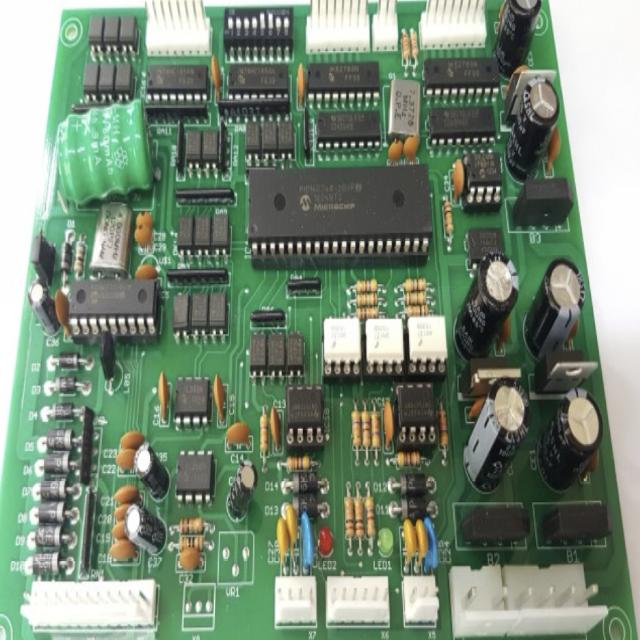Electrolytic capacitor: (461, 380, 531, 499), (454, 254, 522, 362), (524, 245, 586, 358), (540, 383, 600, 498), (509, 80, 558, 180), (497, 0, 542, 67), (135, 440, 170, 508), (126, 504, 166, 556), (27, 284, 60, 347), (224, 459, 255, 523)
IC: (247, 161, 433, 264), (68, 276, 159, 344), (141, 58, 209, 119), (424, 53, 498, 101), (226, 57, 288, 113), (307, 59, 380, 103), (426, 99, 499, 142), (311, 105, 382, 148), (397, 379, 442, 446), (283, 382, 327, 448), (466, 152, 502, 212), (178, 442, 211, 506), (172, 376, 209, 428)
ceramic capacitor: (171, 543, 209, 582), (111, 444, 139, 485), (213, 362, 230, 426), (107, 542, 138, 572), (154, 370, 170, 426), (450, 153, 464, 214), (292, 61, 307, 116), (132, 203, 158, 234), (225, 428, 256, 453), (138, 260, 162, 288), (114, 429, 147, 448), (133, 223, 156, 250), (211, 49, 222, 105), (110, 483, 140, 502), (401, 134, 421, 162), (387, 134, 405, 160)
diode: (39, 442, 75, 482), (30, 523, 70, 552), (29, 546, 68, 572), (34, 501, 73, 526), (51, 350, 85, 378), (396, 472, 430, 498), (395, 498, 433, 521), (49, 372, 81, 399), (287, 492, 318, 519), (38, 476, 72, 499), (43, 431, 76, 454), (288, 470, 320, 493), (48, 400, 77, 423), (60, 240, 72, 282)
led: (317, 526, 338, 574), (374, 527, 397, 568)
resistor: (177, 508, 209, 536), (394, 446, 425, 473), (352, 490, 365, 552), (258, 411, 272, 467), (364, 492, 377, 552), (173, 531, 211, 551), (343, 497, 356, 550), (402, 272, 429, 296), (349, 408, 362, 457), (359, 406, 372, 454), (369, 408, 382, 456), (439, 407, 451, 458), (441, 200, 454, 242), (353, 288, 380, 306), (411, 24, 421, 72), (402, 302, 432, 318), (354, 274, 380, 292), (403, 288, 429, 305), (74, 240, 86, 276), (354, 301, 379, 316), (402, 29, 411, 68)
